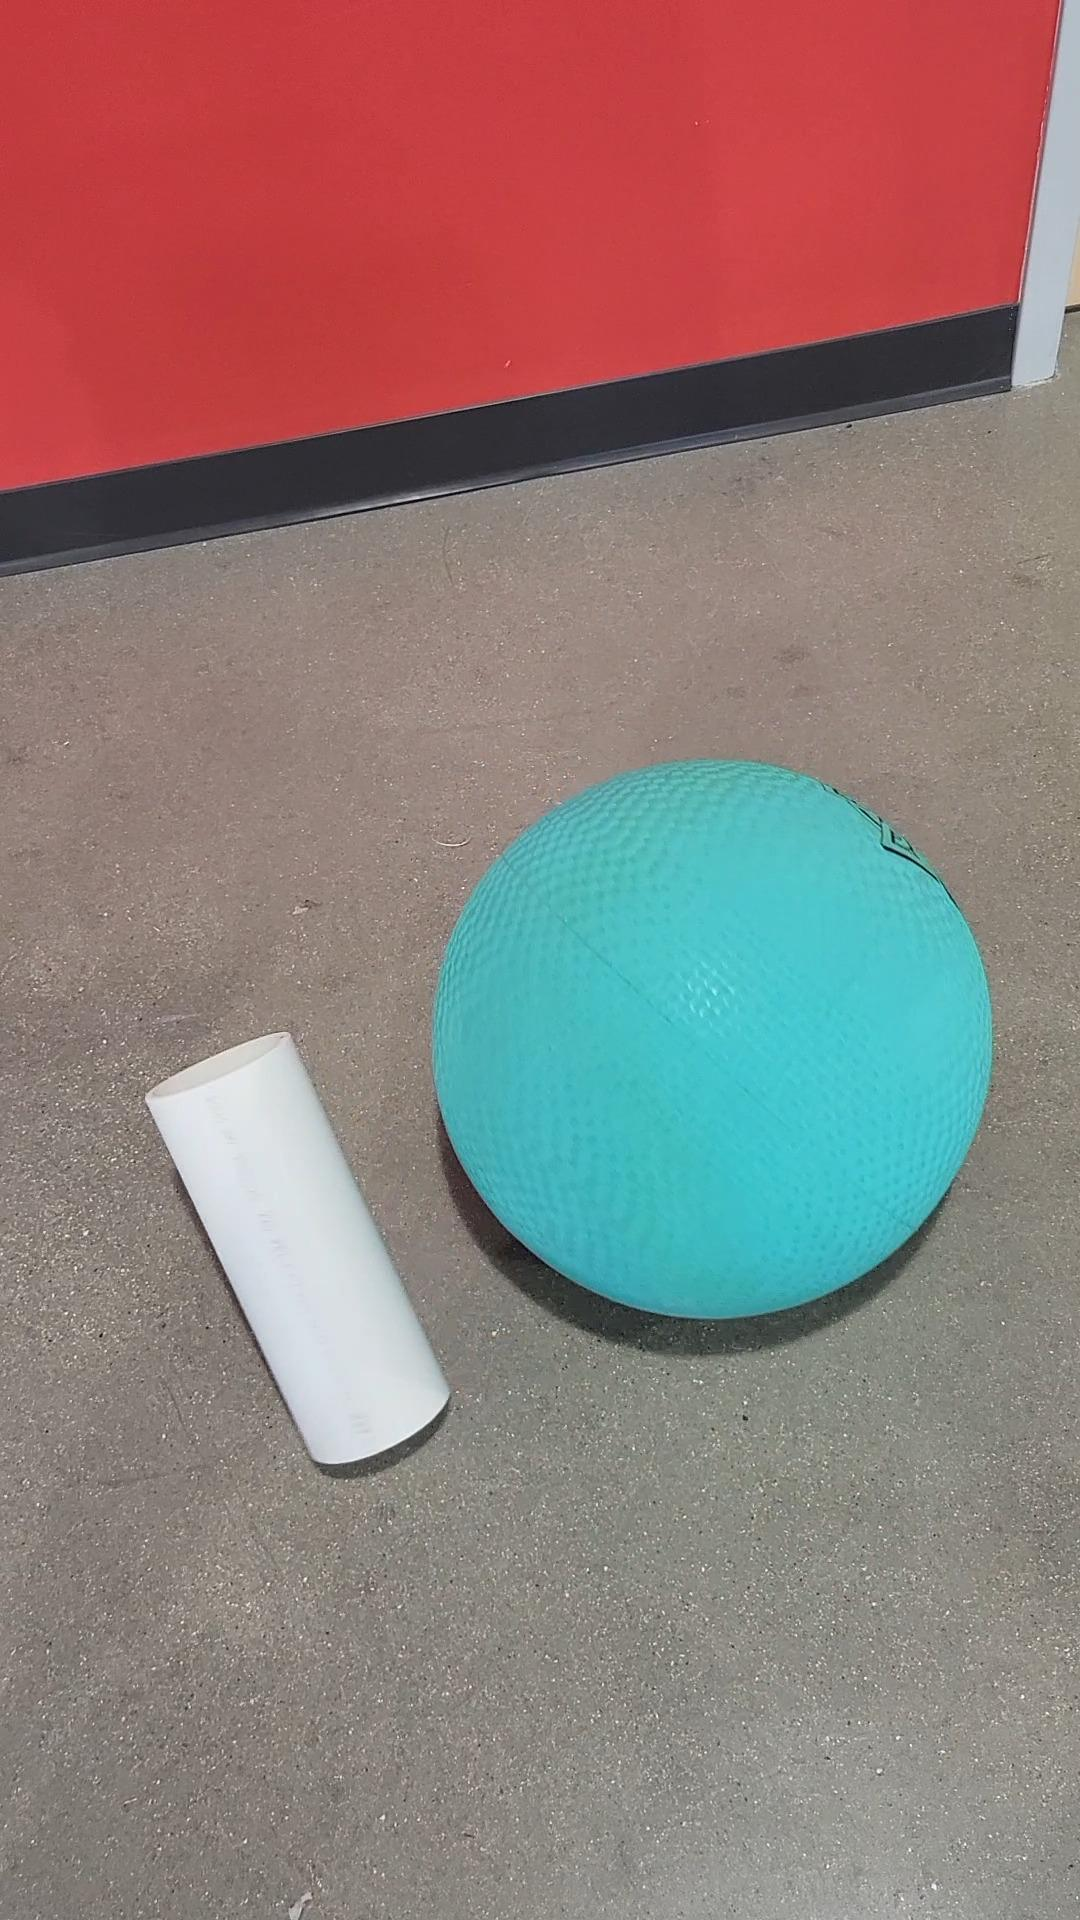algae: (427, 761, 996, 1324)
coral: (141, 1031, 452, 1468)
